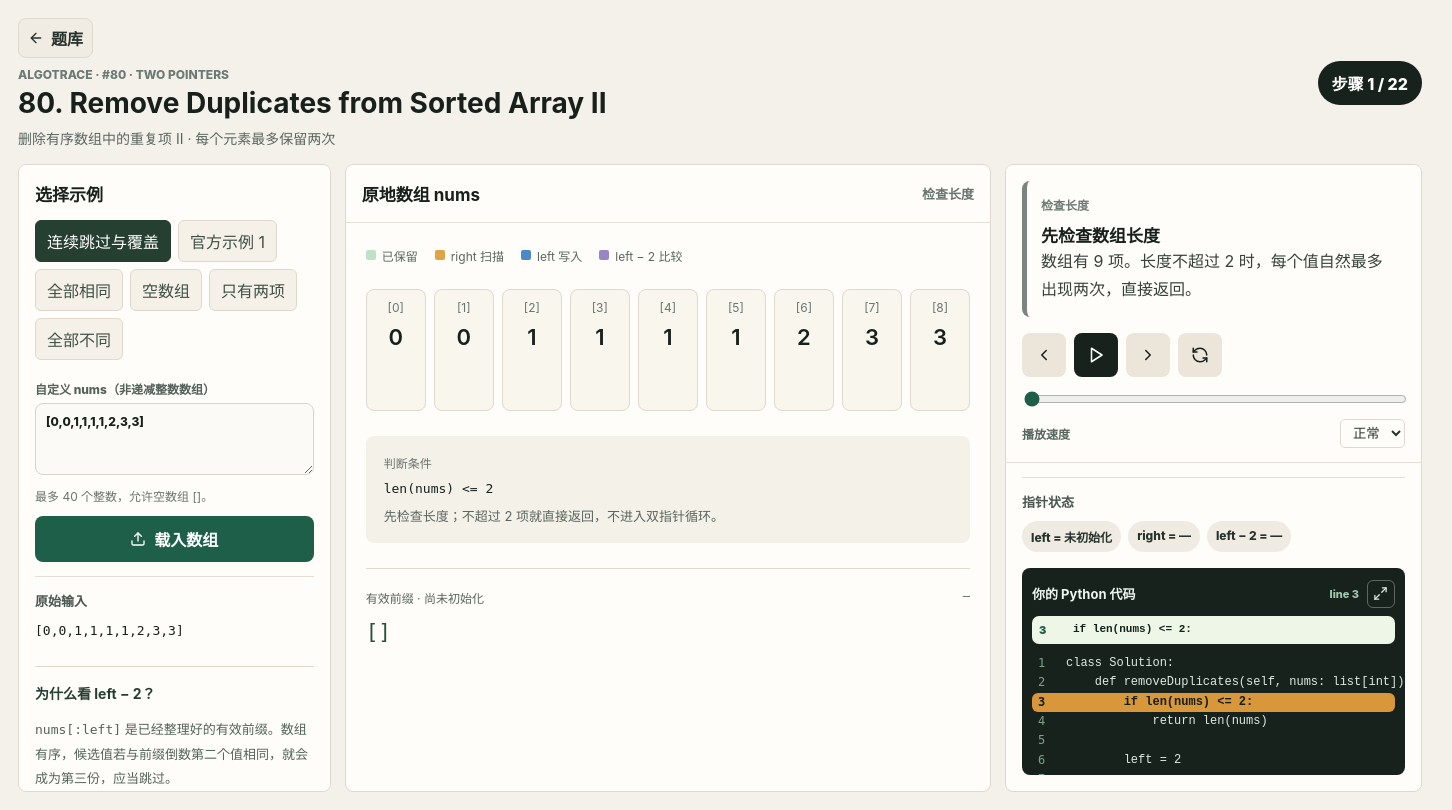
Remove Duplicates II visualizer interactions › loads a custom input in the supported format [1,1,1,2,2,3] and resets the trace
Step 1. Set the slider named "Step slider" to "21" → (1399, 399), box [1024, 391, 1407, 407]
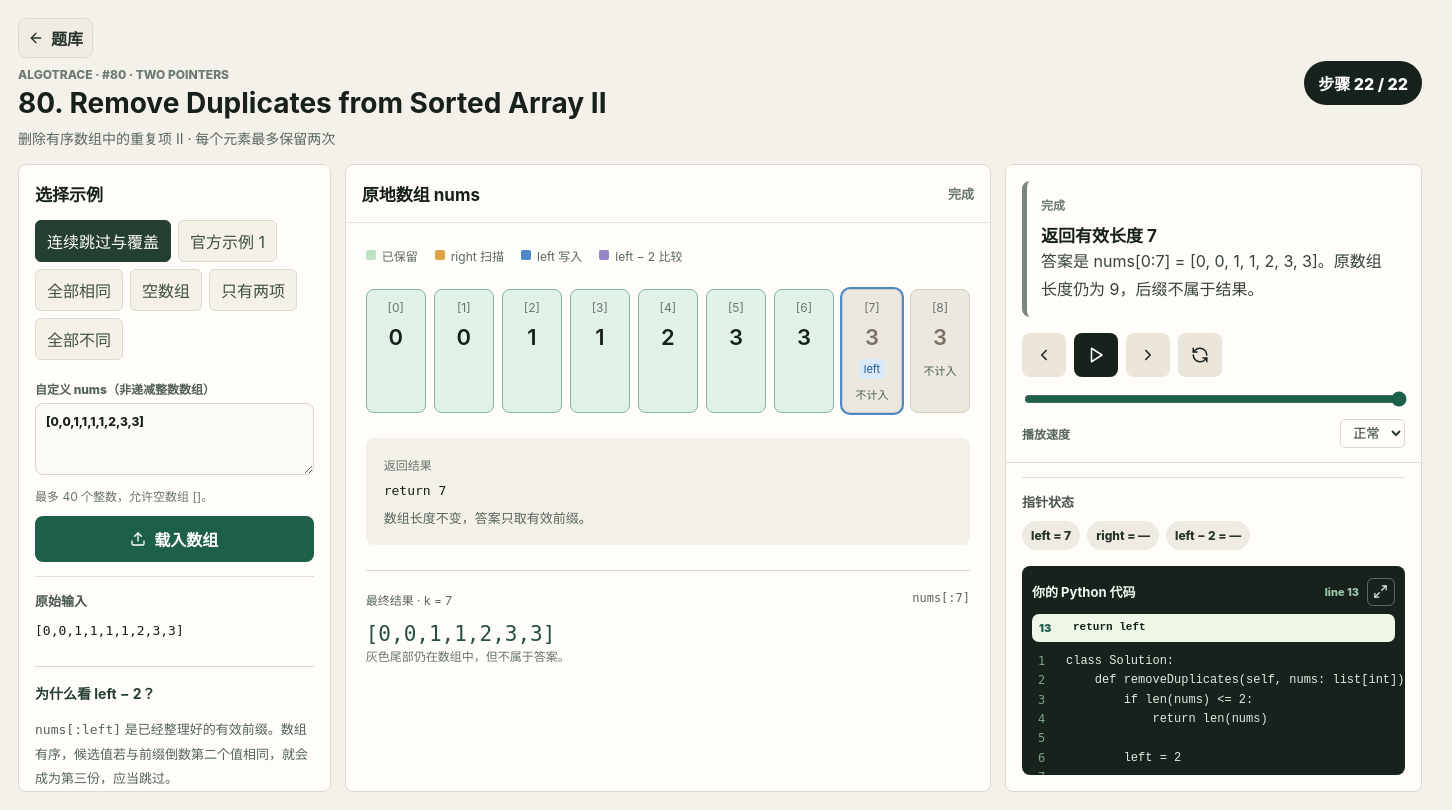
Step 2. Clear the text box named "nums JSON" → (174, 439), box [35, 403, 314, 475]
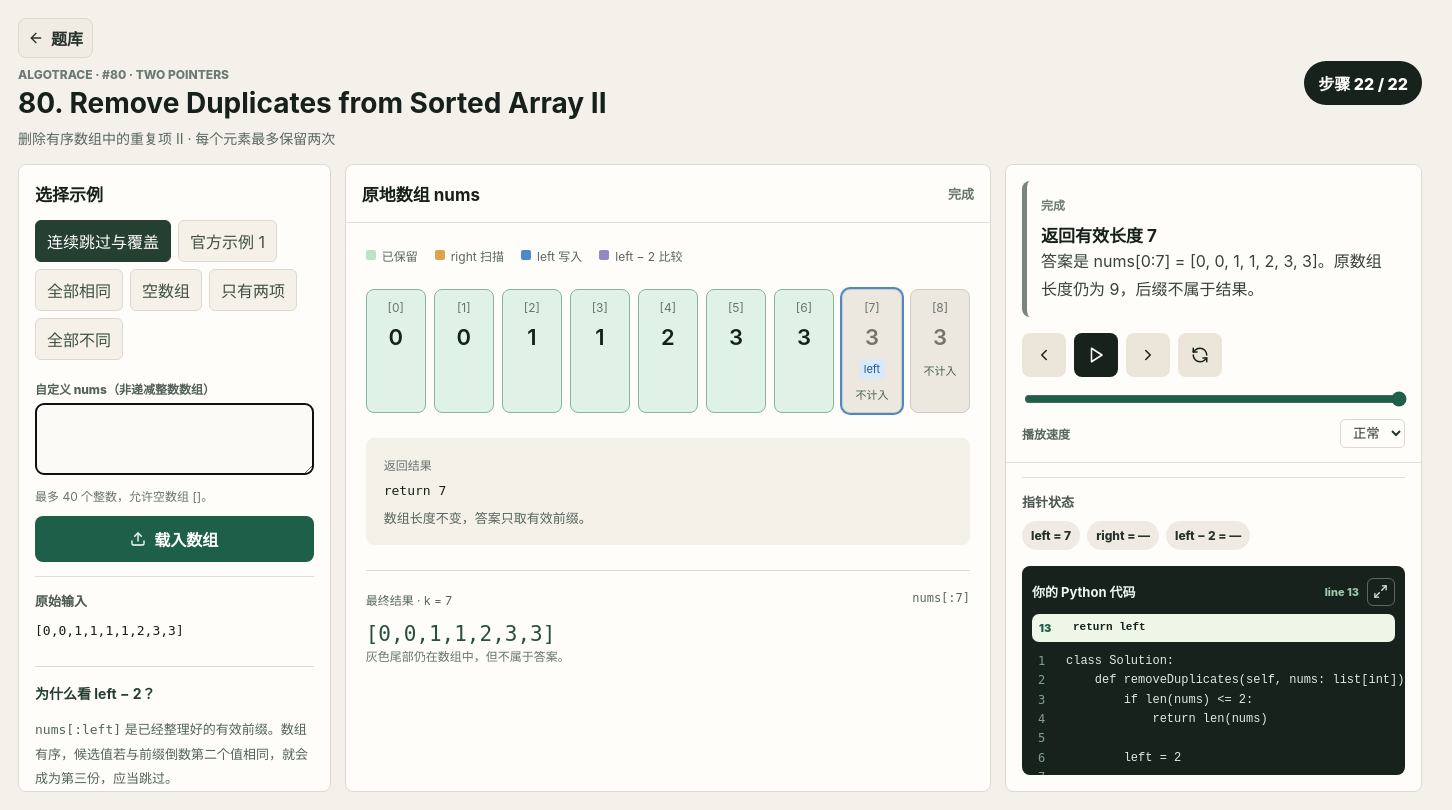
Step 3. Type keys "[1,1,1,2,2,3]"
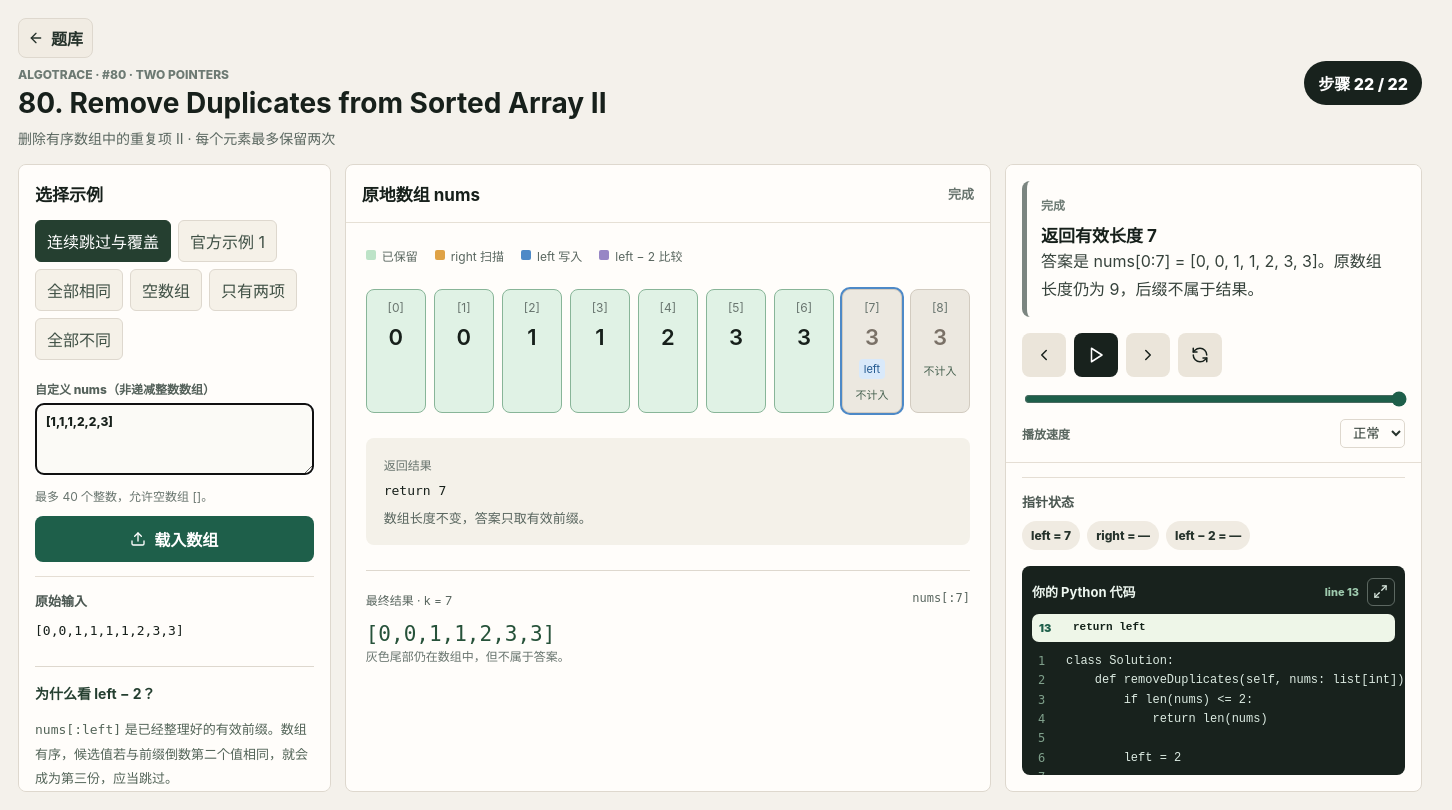
Step 4. Click the button "载入数组" → (174, 539), box [35, 516, 314, 562]
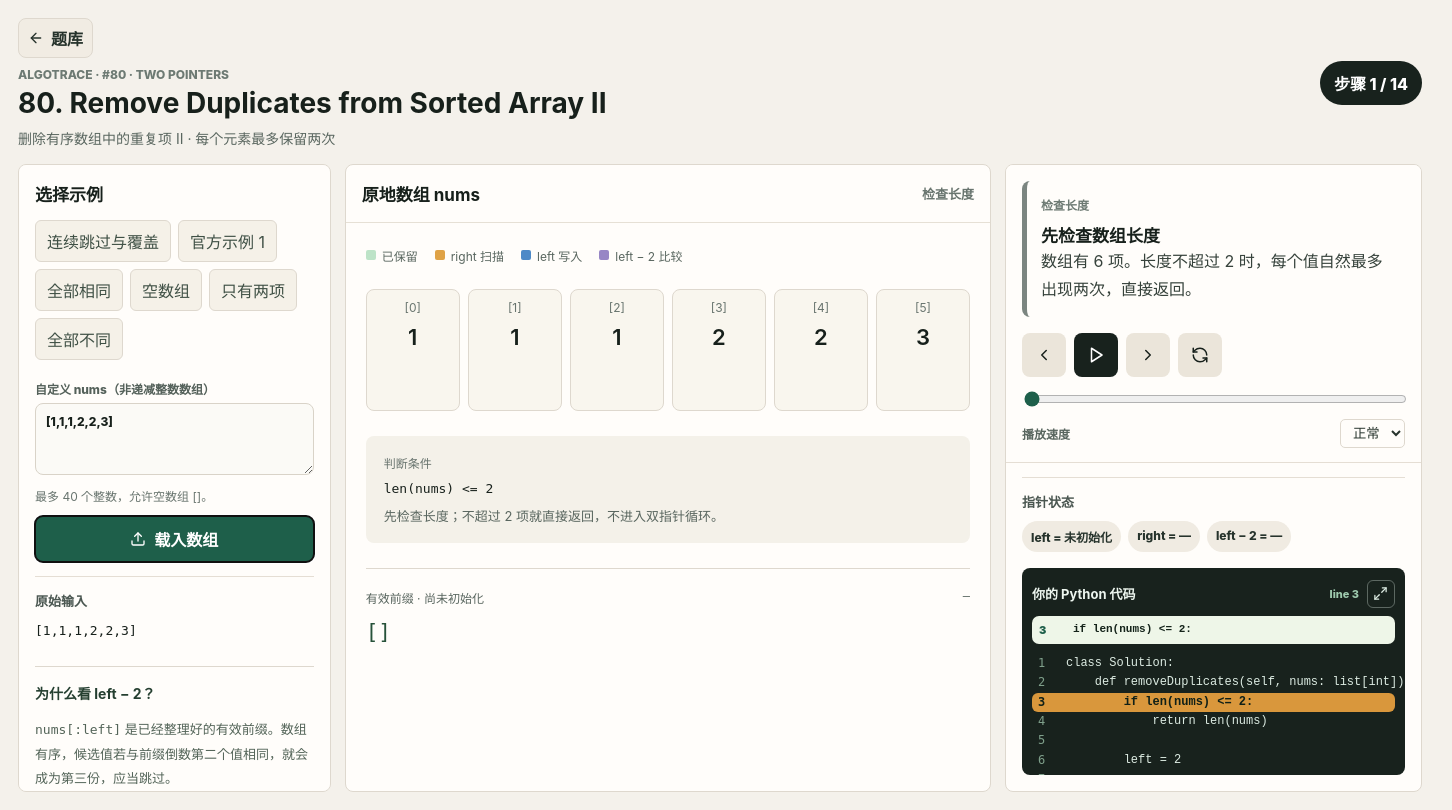
Now the text box named "nums JSON" holds "[1,1,1,2,2,3]", box [35, 403, 314, 475]
Now the slider named "Step slider" holds "0", box [1024, 391, 1407, 407]
Now the text with test id "valid-prefix" reads "[]", box [366, 620, 391, 644]
